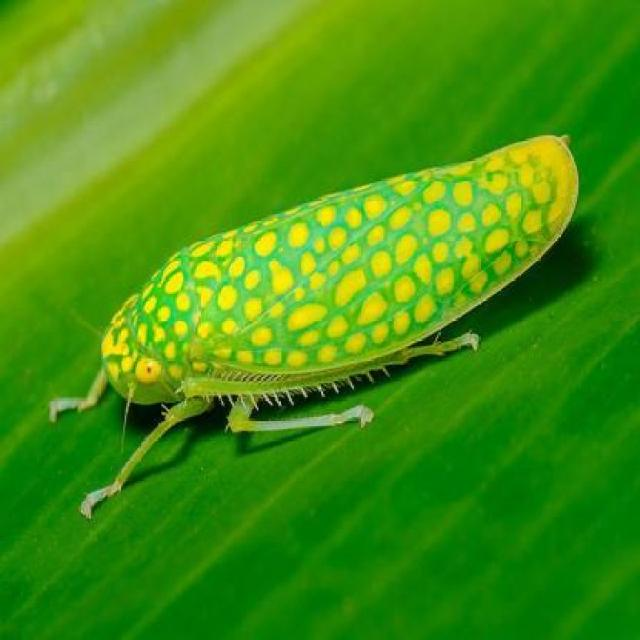green-leafhopper: (97, 140, 578, 442)
